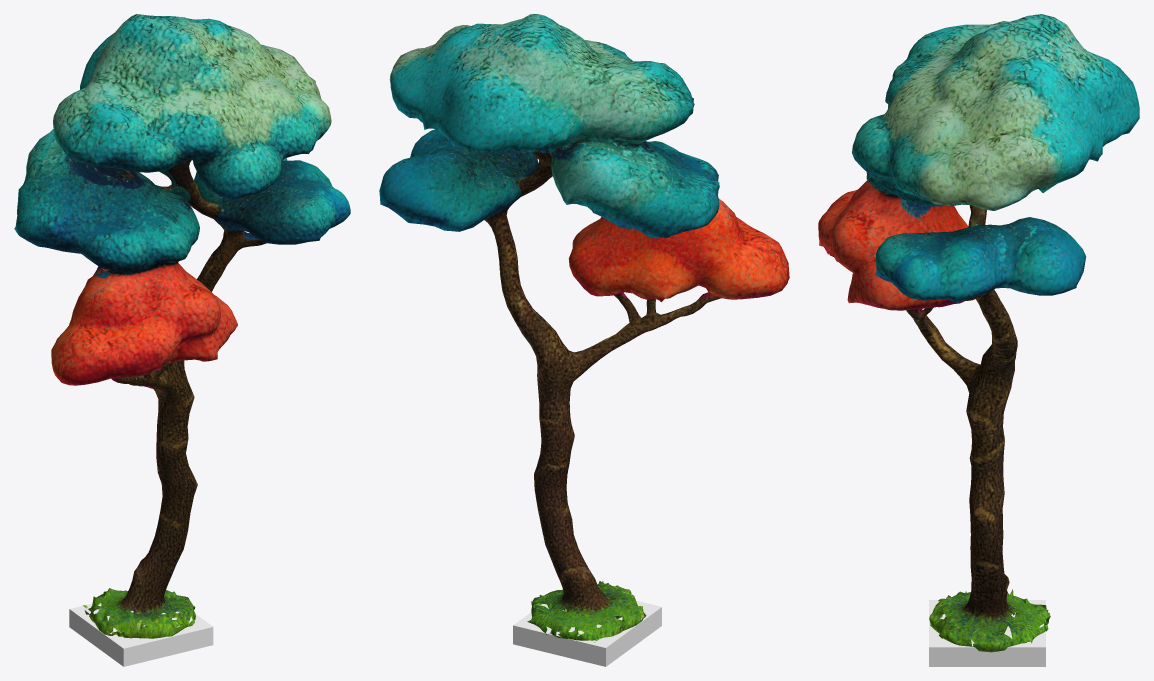
Rendered from bonsai.glb.
3 renders of one model, left to right at view 1: azimuth 30°, elevation 25°; view 2: azimuth 150°, elevation 25°; view 3: azimuth 270°, elevation 25°, orthographic. The views are drawn at different scales.
Parts seen in each view (by area): view 1: bonsai; view 2: bonsai; view 3: bonsai.
Part boxes in pixels (x1,y1,x2,y2): bonsai: (14, 14, 350, 666); bonsai: (379, 14, 789, 666); bonsai: (818, 14, 1139, 666).
Size of the model in its own units: 0.9725 by 1.75 by 0.795.
2 materials, 1 textured.
